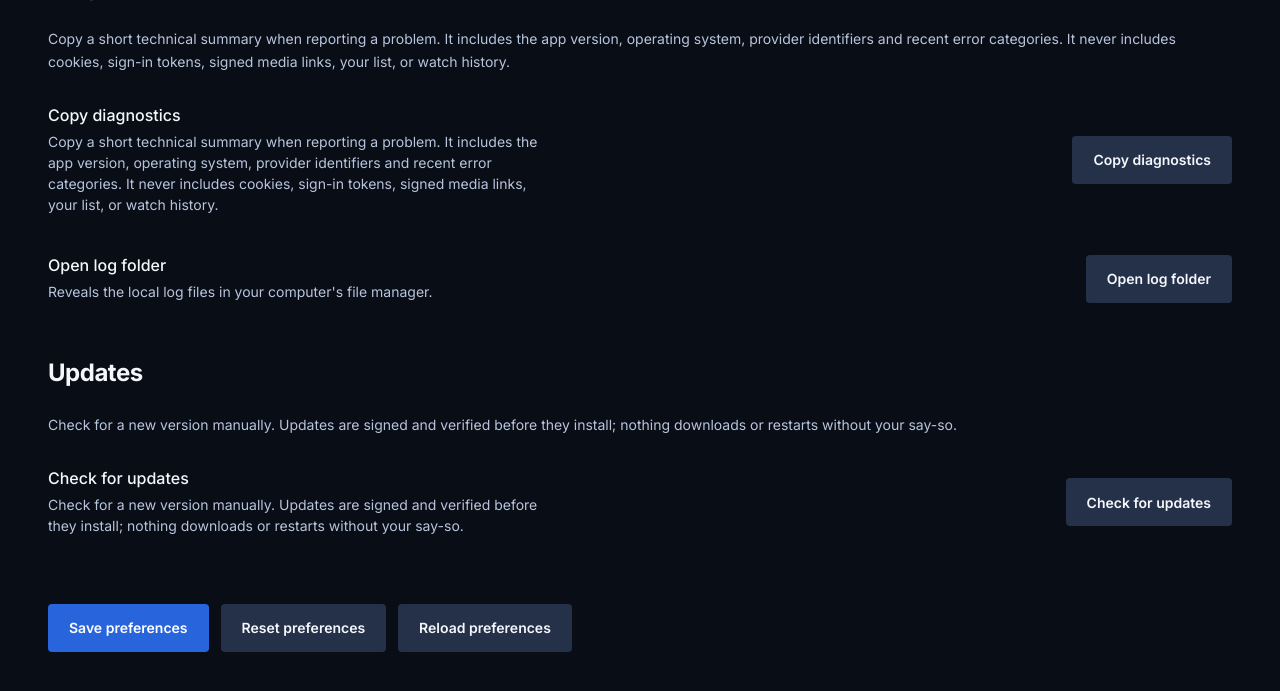
Test case: Preferences update checks › warns about stopping playback before a consented restart
(page scrolled)
Click the button "Check for updates".
click(1149, 502)  # box [1066, 478, 1232, 526]
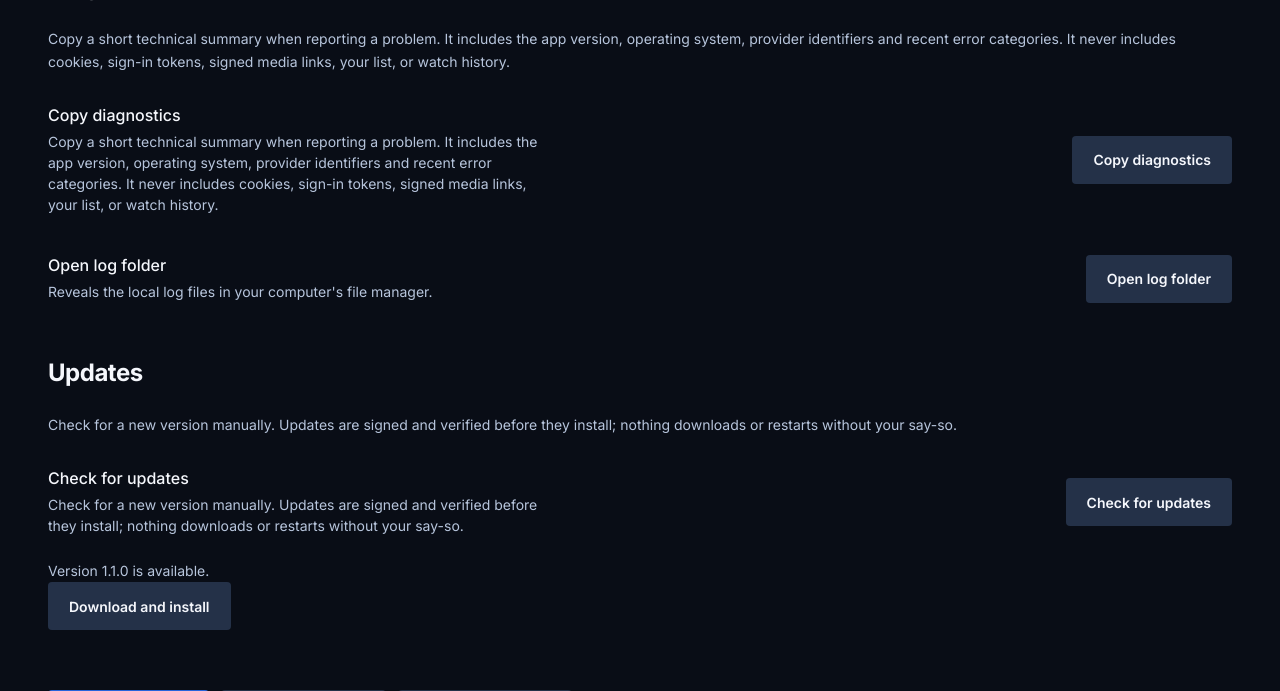
Now the text "Version 1.1.0 is available." is shown, box [48, 562, 209, 579]
Click the button "Download and install".
click(139, 606)  # box [48, 582, 230, 630]
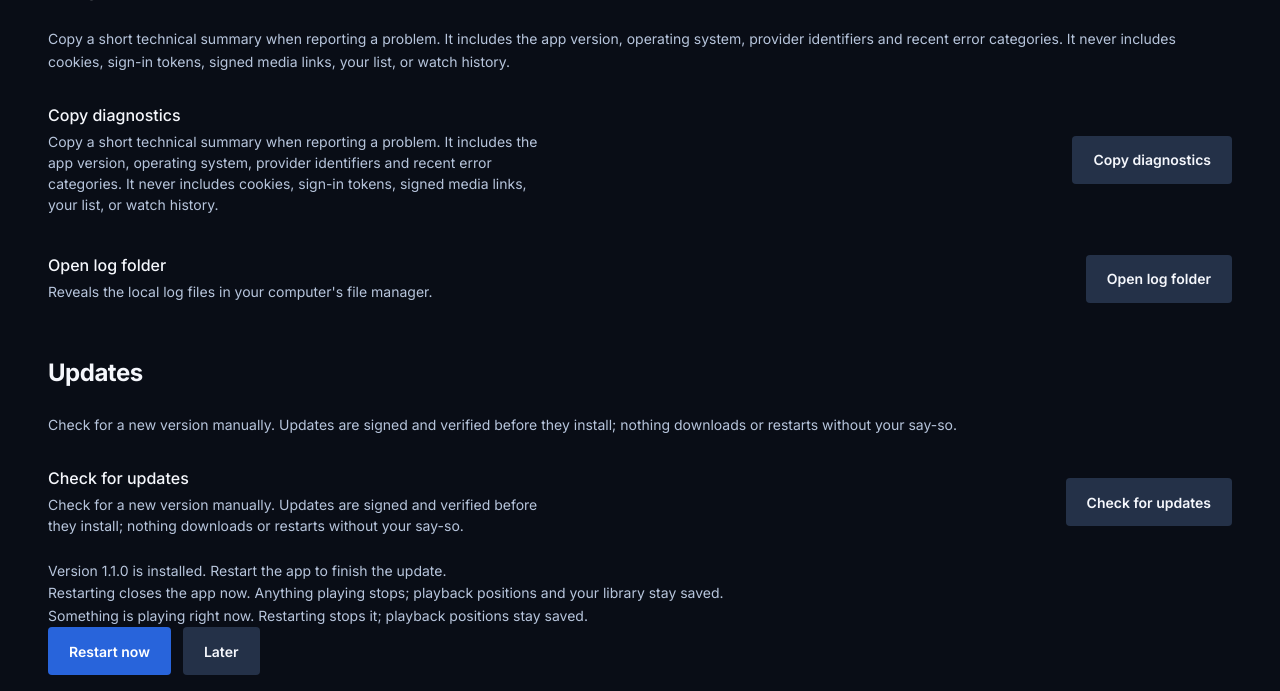
Now the text "Something is playing right now. Restarting stops it; playback positions stay saved." is shown, box [48, 607, 588, 624]
